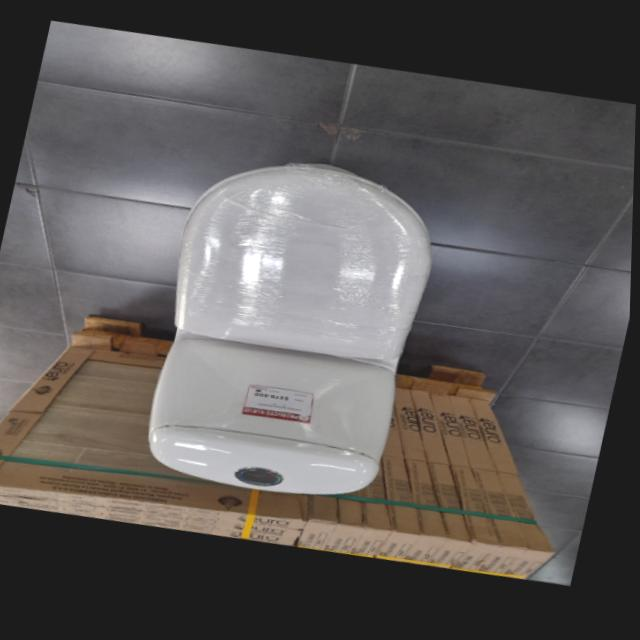toilet: (132, 139, 453, 523)
